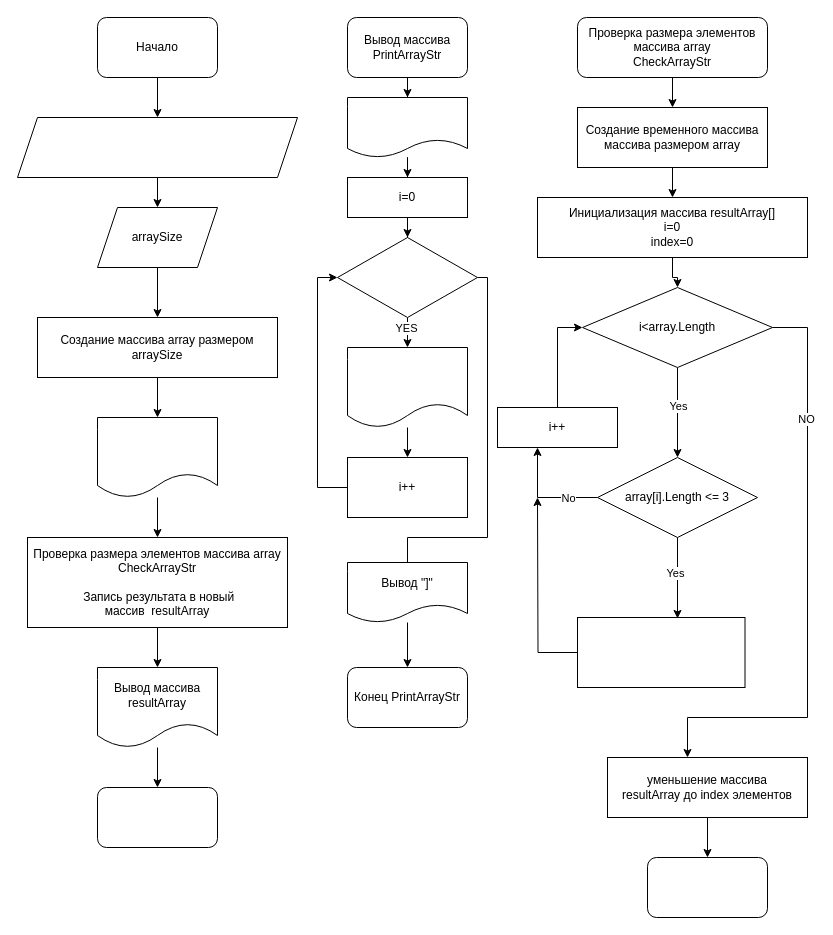
This 833x935 diagram has some shape labels left out. Each missing label, with the centre of its shape:
i<размер масива: (407,277)
resultArray[index] = array[i] index++: (660,652)
Введите размер строкового массива: (157,147)
вывести i элемент массива: (407,387)
Вывод "[": (407,127)
Вывод массива array: (157,457)
Конец: (157,817)
Конец CheckArrayStr: (707,887)
